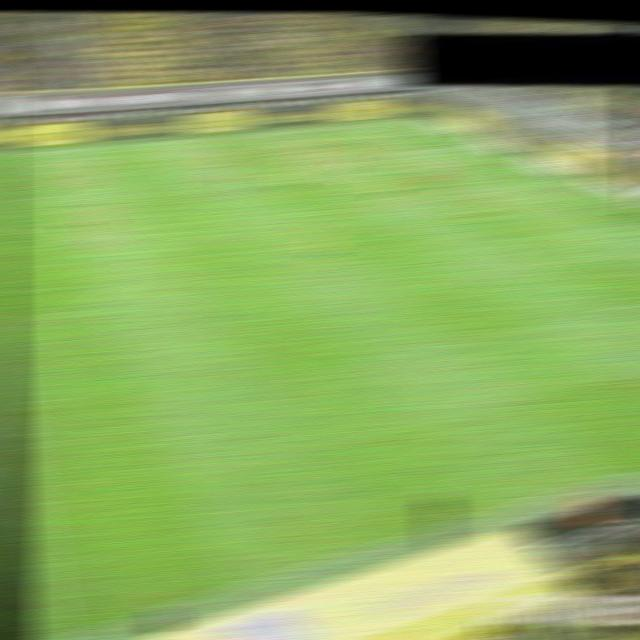bigarea_bottom_inner: (596, 302, 625, 315)
bigarea_top_inner: (330, 151, 361, 164)
bigarea_top_outter: (462, 138, 490, 150)
bottom_arc_area_intersection: (478, 234, 509, 250)
corner: (402, 114, 430, 126)
midline_bottom_intersection: (30, 621, 82, 640)
smallarea_bottom_inner: (609, 226, 638, 239)
smallarea_top_inner: (479, 169, 507, 180)
smallarea_top_outter: (523, 164, 551, 175)
top_arc_area_intersection: (387, 183, 418, 199)
